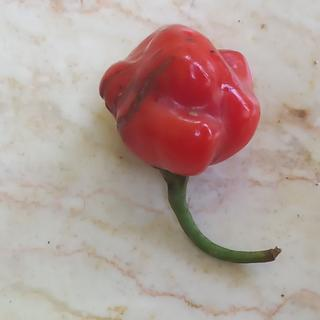striped: (114, 61, 173, 133)
